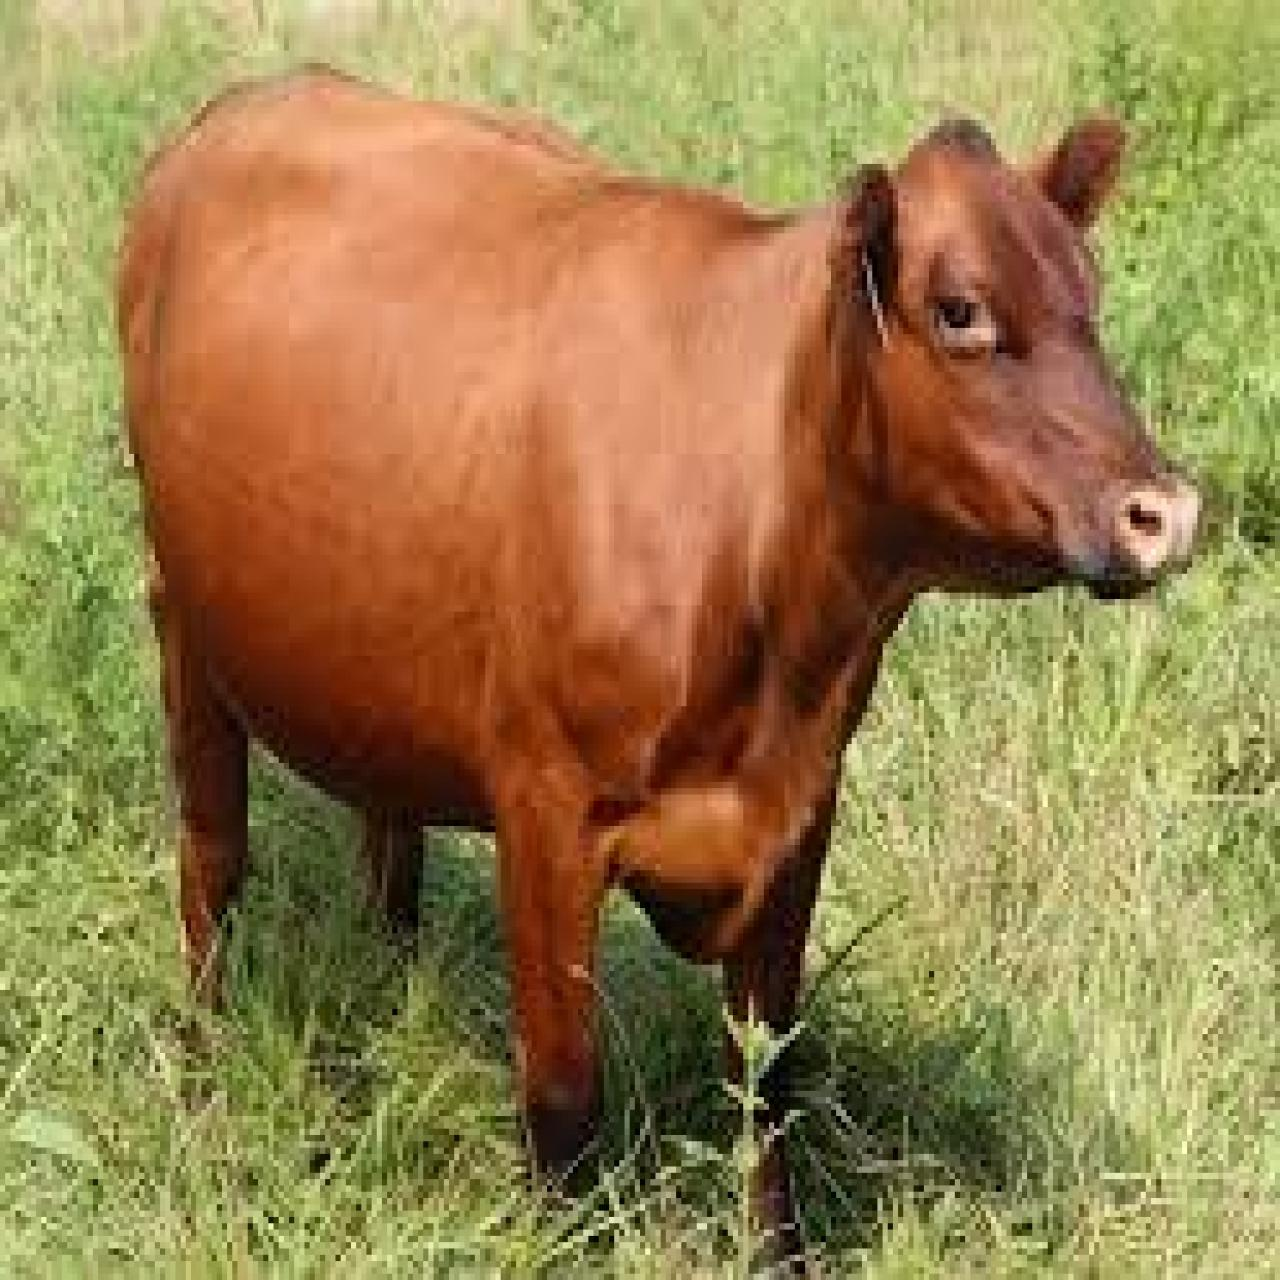cow: (114, 63, 1203, 1280)
